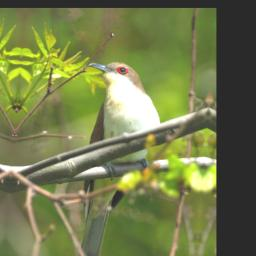Cuckoo: (65, 58, 169, 256)
